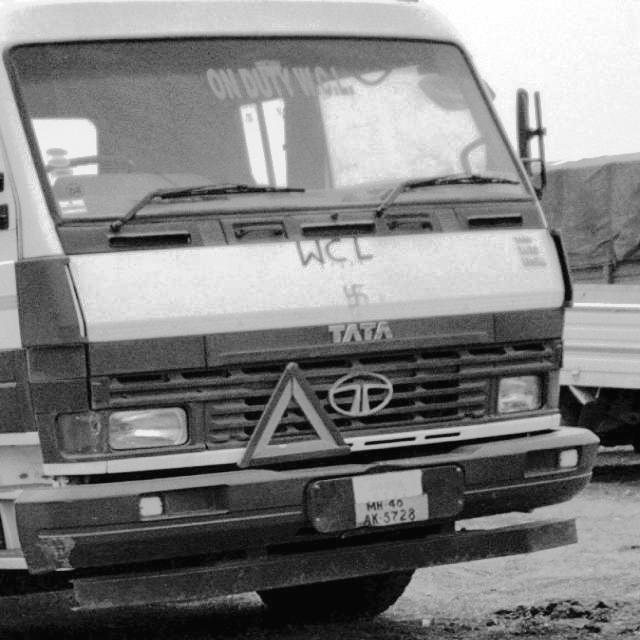HCV: (0, 0, 589, 594)
